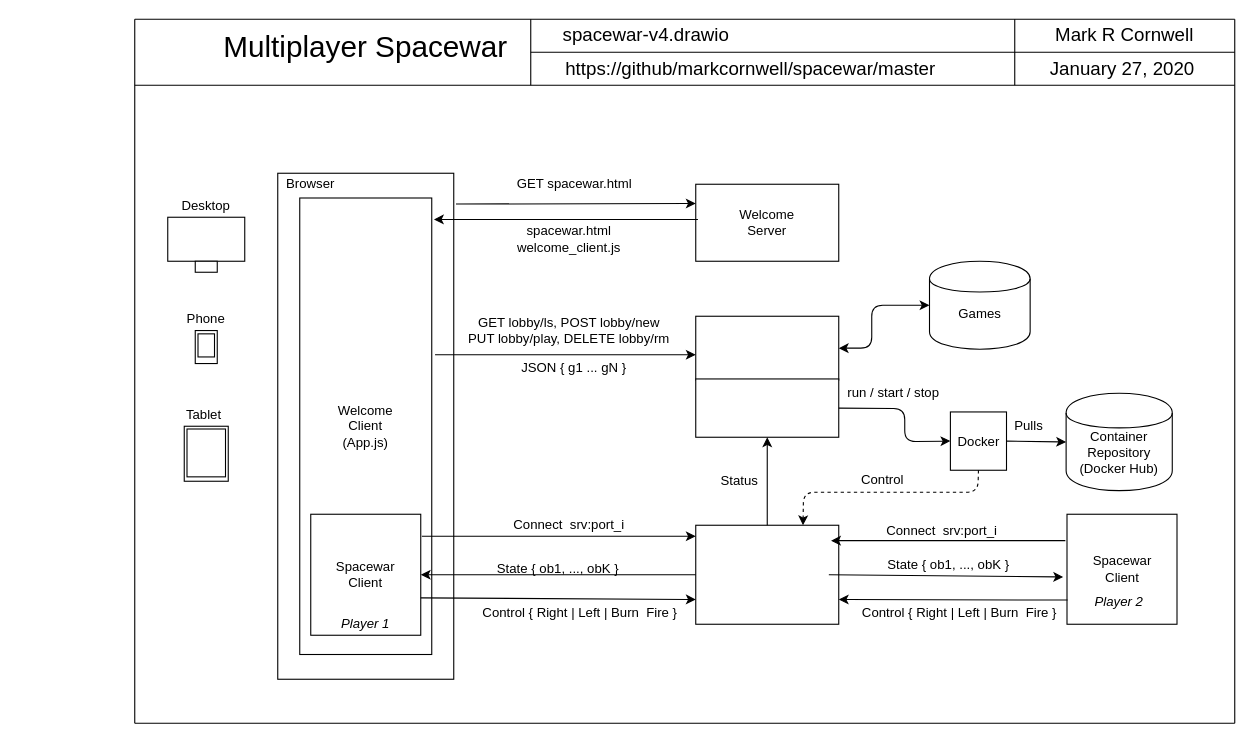
Some shapes in this 1255 by 744 pixel diagram are drawn without their labels. Here are the shapes that lost their labels. From the top down, the centre of each, then its label:
the point at 767,347: Matchmaker Server
the point at 767,407: Instance Manager
the point at 767,574: Spacewar Server Instance
